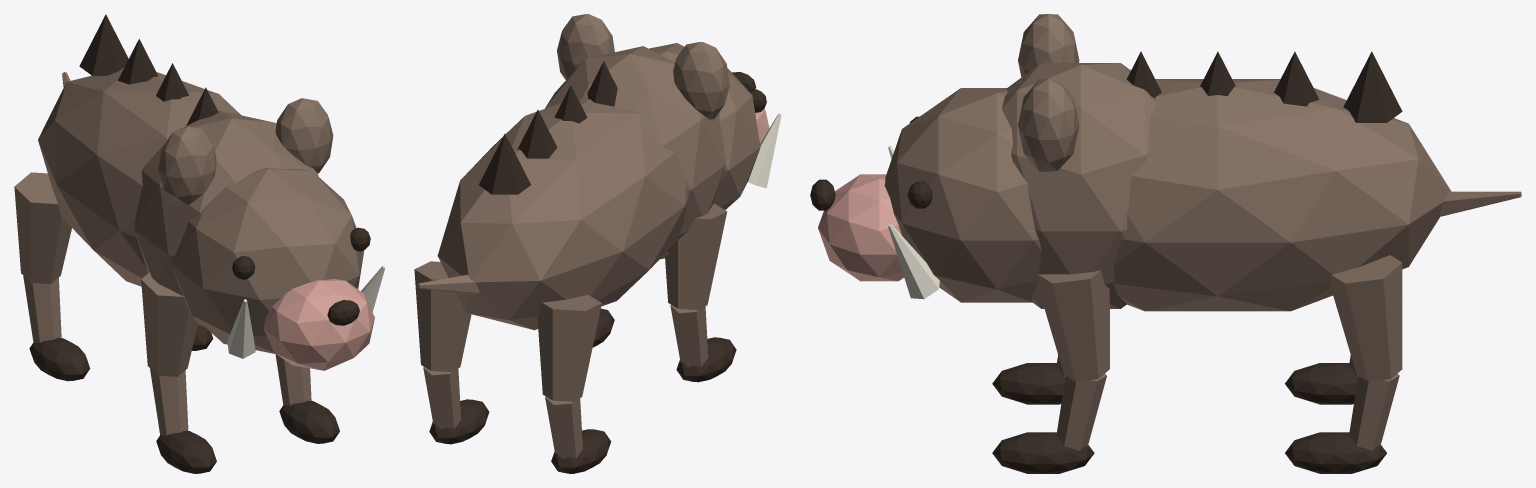
File: Boar.fbx
3 renders of one model, left to right at view 1: azimuth 30°, elevation 25°; view 2: azimuth 150°, elevation 25°; view 3: azimuth 270°, elevation 25°, orthographic. The views are drawn at different scales.
Visible parts, largest first — view 1: Head.002, Body.002, Chest.002, Snout, Upper leg.009, Upper leg.008, Ear.002, Ear.003, Lower leg.009, Lower leg.008, Foot.008, Foot.009 (+11 smaller); view 2: Body.002, Chest.002, Upper leg.009, Upper leg.011, Upper leg.008, Head.002, Ear.002, Ear.003, Lower leg.009, Lower leg.011, Lower leg.008, Back bristle.003 (+9 smaller); view 3: Body.002, Head.002, Chest.002, Upper leg.011, Snout, Upper leg.010, Ear.003, Foot.011, Foot.010, Ear.002, Lower leg.010, Lower leg.011 (+8 smaller).
Part boxes in pixels (x1=…): Head.002: x1=172, y1=167, x2=364, y2=353; Body.002: x1=38, y1=67, x2=240, y2=286; Chest.002: x1=134, y1=110, x2=318, y2=326; Snout: x1=263, y1=279, x2=374, y2=370; Upper leg.009: x1=14, y1=172, x2=71, y2=283; Upper leg.008: x1=141, y1=272, x2=197, y2=376; Ear.002: x1=158, y1=126, x2=216, y2=205; Ear.003: x1=275, y1=98, x2=333, y2=173; Lower leg.009: x1=23, y1=276, x2=61, y2=342; Lower leg.008: x1=150, y1=368, x2=188, y2=435; Foot.008: x1=156, y1=430, x2=216, y2=473; Foot.009: x1=29, y1=338, x2=90, y2=381; Body.002: x1=437, y1=99, x2=688, y2=330; Chest.002: x1=545, y1=46, x2=725, y2=259; Upper leg.009: x1=537, y1=295, x2=601, y2=401; Upper leg.011: x1=414, y1=261, x2=471, y2=371; Upper leg.008: x1=665, y1=203, x2=727, y2=309; Head.002: x1=649, y1=43, x2=760, y2=209; Ear.002: x1=673, y1=42, x2=729, y2=119; Ear.003: x1=557, y1=14, x2=614, y2=79; Lower leg.009: x1=545, y1=396, x2=582, y2=459; Lower leg.011: x1=423, y1=367, x2=461, y2=429; Lower leg.008: x1=670, y1=305, x2=708, y2=367; Back bristle.003: x1=479, y1=134, x2=530, y2=194; Body.002: x1=1113, y1=79, x2=1451, y2=311; Head.002: x1=884, y1=88, x2=1041, y2=302; Chest.002: x1=1002, y1=63, x2=1156, y2=308; Upper leg.011: x1=1330, y1=255, x2=1402, y2=381; Snout: x1=818, y1=174, x2=903, y2=281; Upper leg.010: x1=1037, y1=270, x2=1109, y2=381; Ear.003: x1=1018, y1=79, x2=1079, y2=171; Foot.011: x1=1285, y1=432, x2=1386, y2=473; Foot.010: x1=992, y1=432, x2=1094, y2=473; Ear.002: x1=1018, y1=14, x2=1079, y2=77; Lower leg.010: x1=1056, y1=374, x2=1106, y2=450; Lower leg.011: x1=1349, y1=373, x2=1399, y2=450.
Bounding box in the file's own units: 0.4499 × 0.84 × 1.39.
